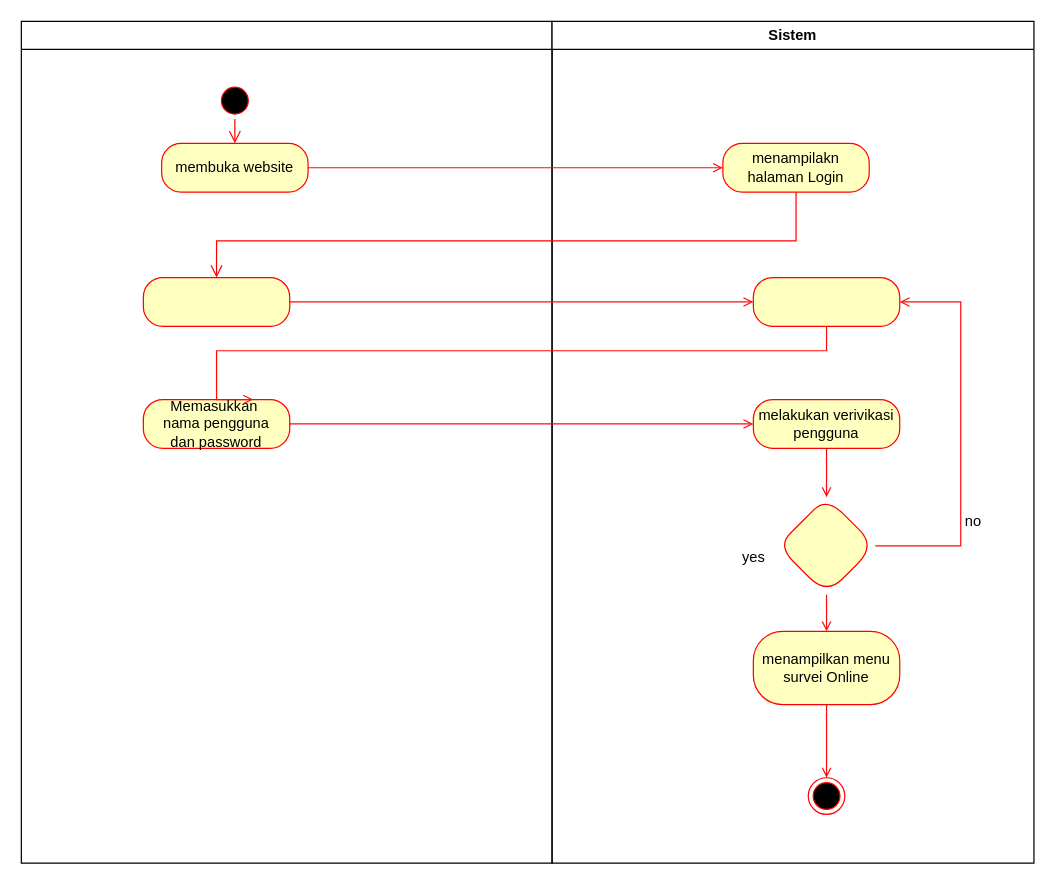
This 1055x885 diagram has some shape labels left out. The shapes that lost their labels are listed below. From the top down, each one's box as (x1, y1, x2, y2) in pixels, then its label:
(142, 276, 290, 326): memilih Tombol login
(752, 276, 900, 326): menampilkan halaman login
(20, 20, 552, 863): User / Responden
